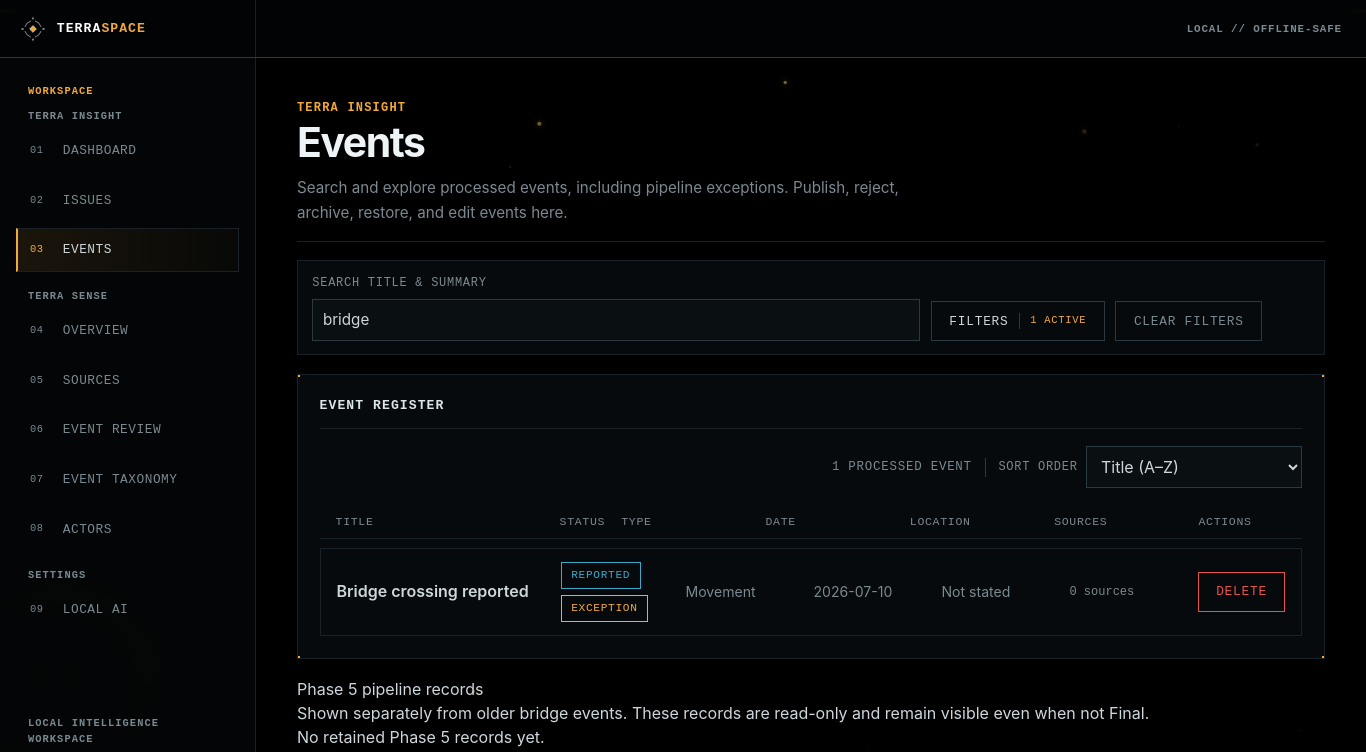
Scenario: EventsPage › opening an event offers Edit and status actions appropriate to its dashboard status
What coordinates should you click on to do the following:
click the button "Bridge crossing reported"
I would click on:
 (441, 592)
Its box is [337,581,545,603].
(page scrolled)
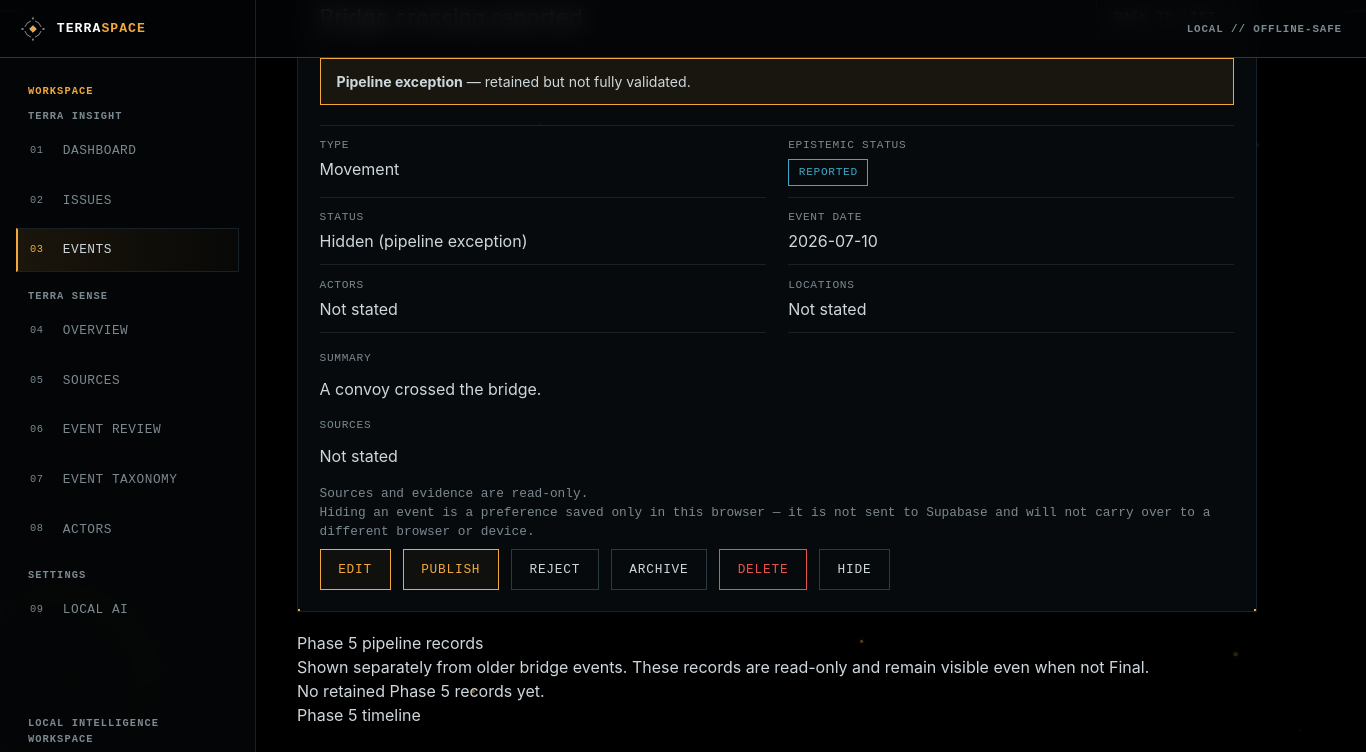
expect the button "Delete" is shown: met, box [719,549,807,590]
expect the button "Edit" is shown: met, box [320,549,391,590]
expect the button "Publish" is shown: met, box [402,549,499,590]
